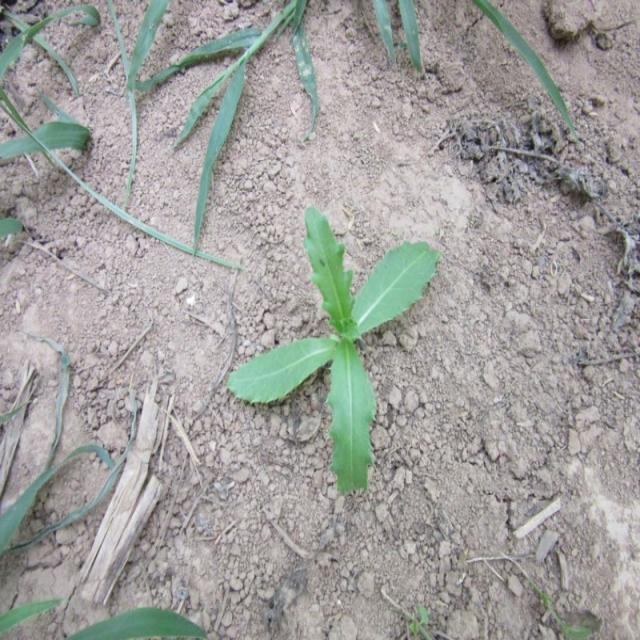field_thistle: (210, 216, 447, 509)
